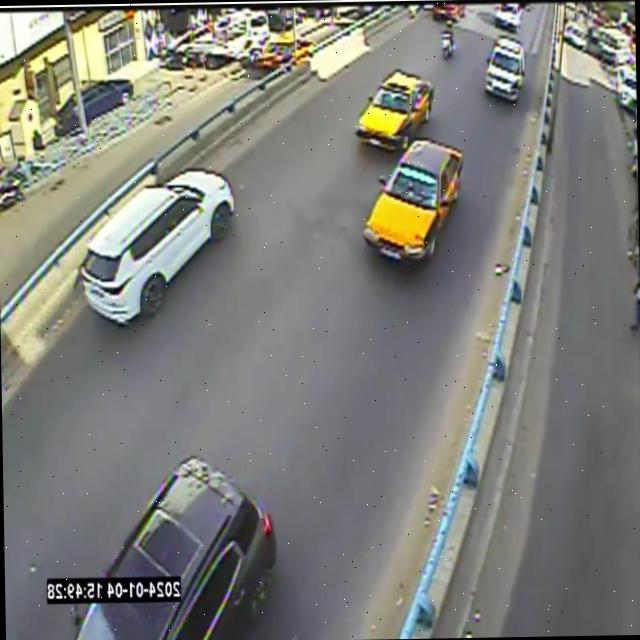car: (75, 456, 276, 640), (80, 169, 235, 322), (363, 138, 463, 260), (356, 70, 433, 149), (485, 37, 525, 101), (494, 3, 521, 32)
